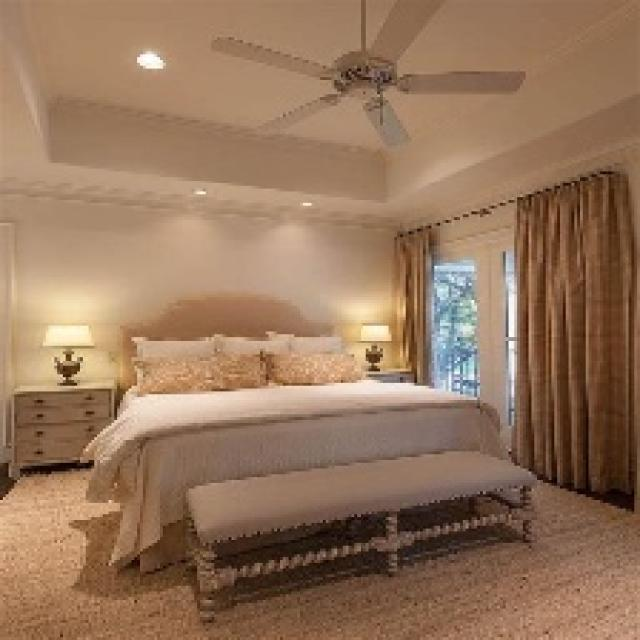Bed: (80, 323, 503, 574)
